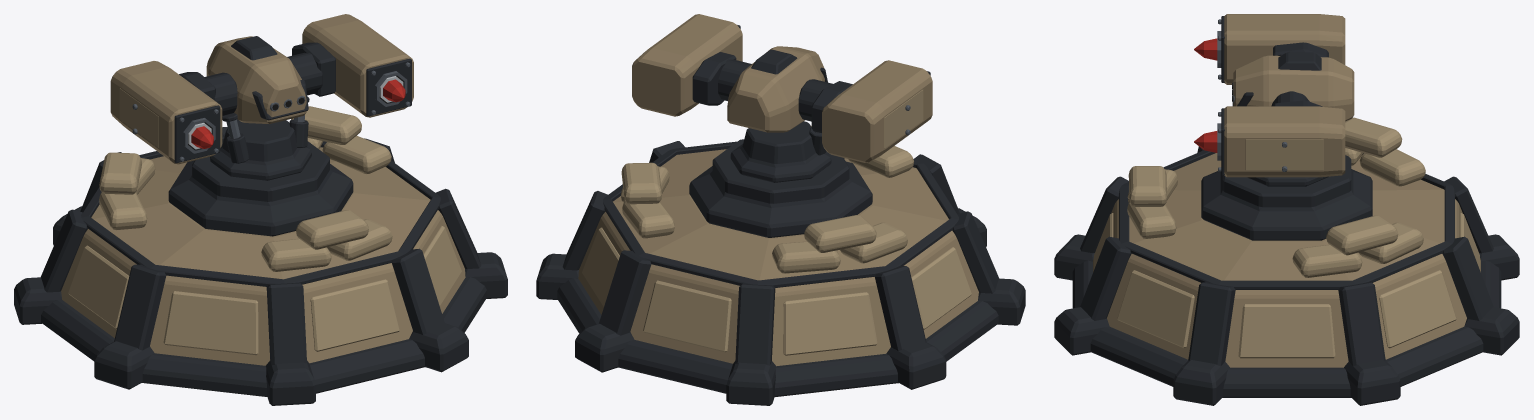
File: lm2-lanza-n1.glb
3 views of the same model, side by side, from view 1: azimuth 30°, elevation 25°; view 2: azimuth 150°, elevation 25°; view 3: azimuth 270°, elevation 25° (orthographic).
Parts seen in each view (by area): view 1: casco, gun_pitch, turret_yaw, rocket_02, rocket_01; view 2: casco, gun_pitch, turret_yaw; view 3: casco, gun_pitch, turret_yaw.
Boxes of the visible parts, x1,y1,x2,y2 form: casco: (14,106,507,405); gun_pitch: (110,14,413,164); turret_yaw: (210,96,311,180); rocket_02: (379,76,405,102); rocket_01: (188,123,213,149); casco: (536,126,1025,405); gun_pitch: (632,14,932,162); turret_yaw: (730,121,831,182); casco: (1054,117,1519,405); gun_pitch: (1217,14,1354,177); turret_yaw: (1247,176,1328,186).
Bounding box in the file's own units: 1 × 0.597 × 1.
